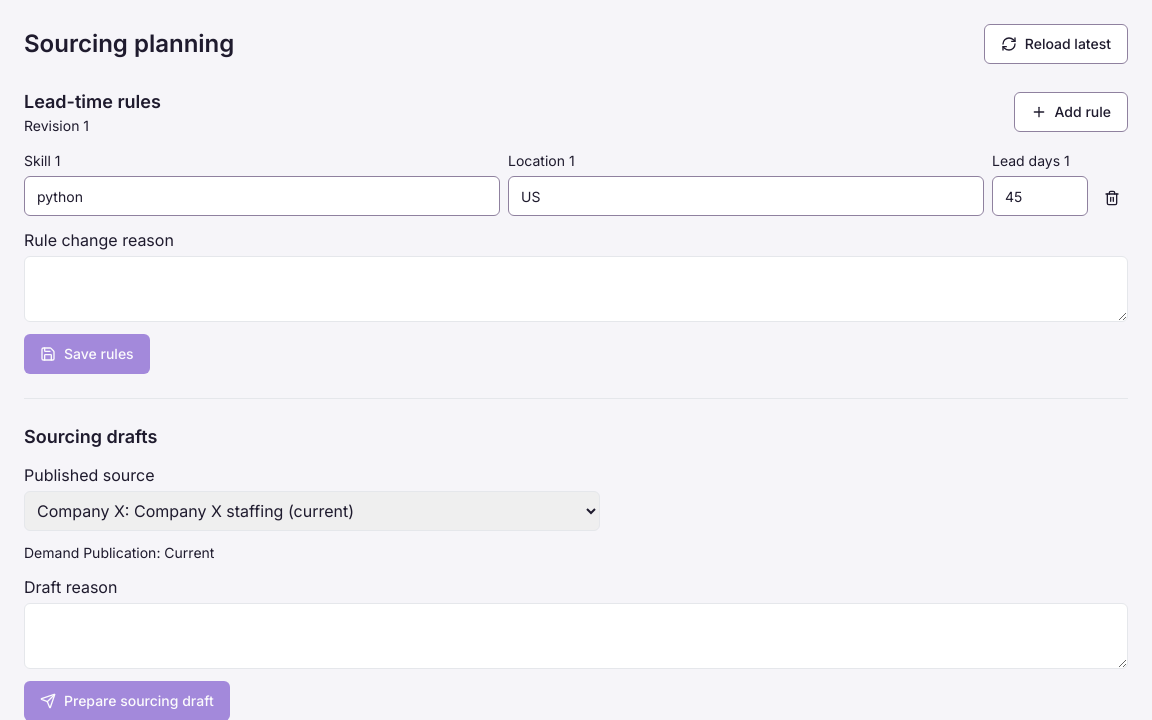
it: ignores stale history after another source is selected
This screenshot has width=1152, height=720.
Select "Company X: Another source (current)" in the dropdown labelled "Published source" at (312, 511), box 24,491 -> 600,531
(page scrolled)
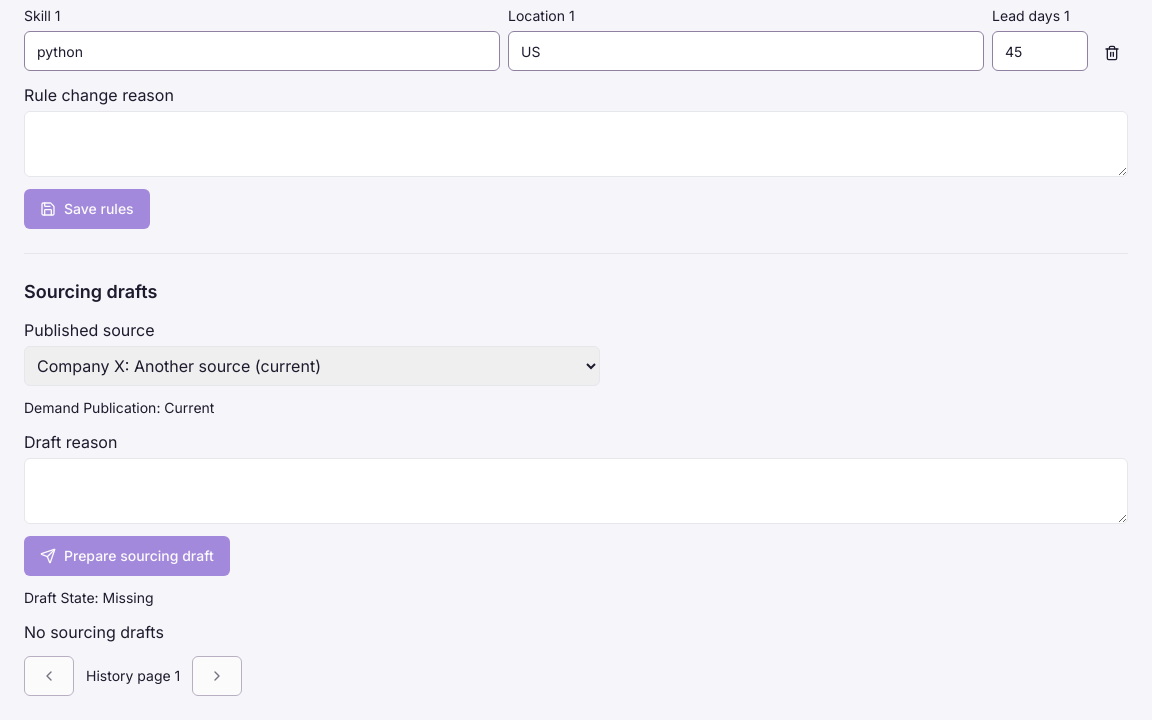
Expected: the text "No sourcing drafts" is shown, 24,622 -> 164,642
